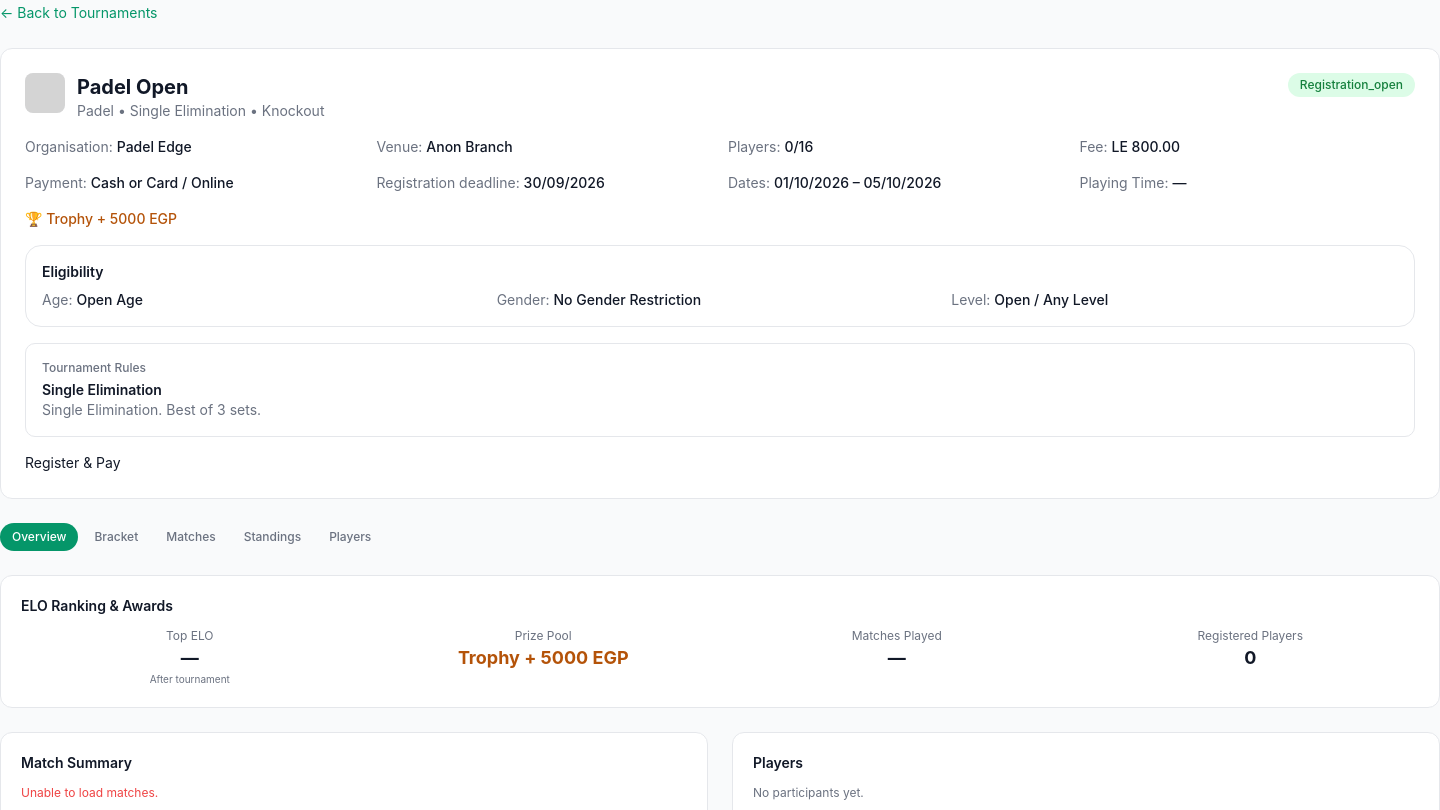
it: TournamentDetailPage — F-02 remaining query failures (UX-12) › matches failure: Overview + Matches + Bracket all surface error + Retry (never "No matches yet.")
Expected: the heading "Padel Open" is shown, [77,75,188,99]
Expected: the text "Unable to load matches." is shown, [21,785,158,800]
Click the tab "Matches". click: [191, 537]
box: [154,523,228,551]
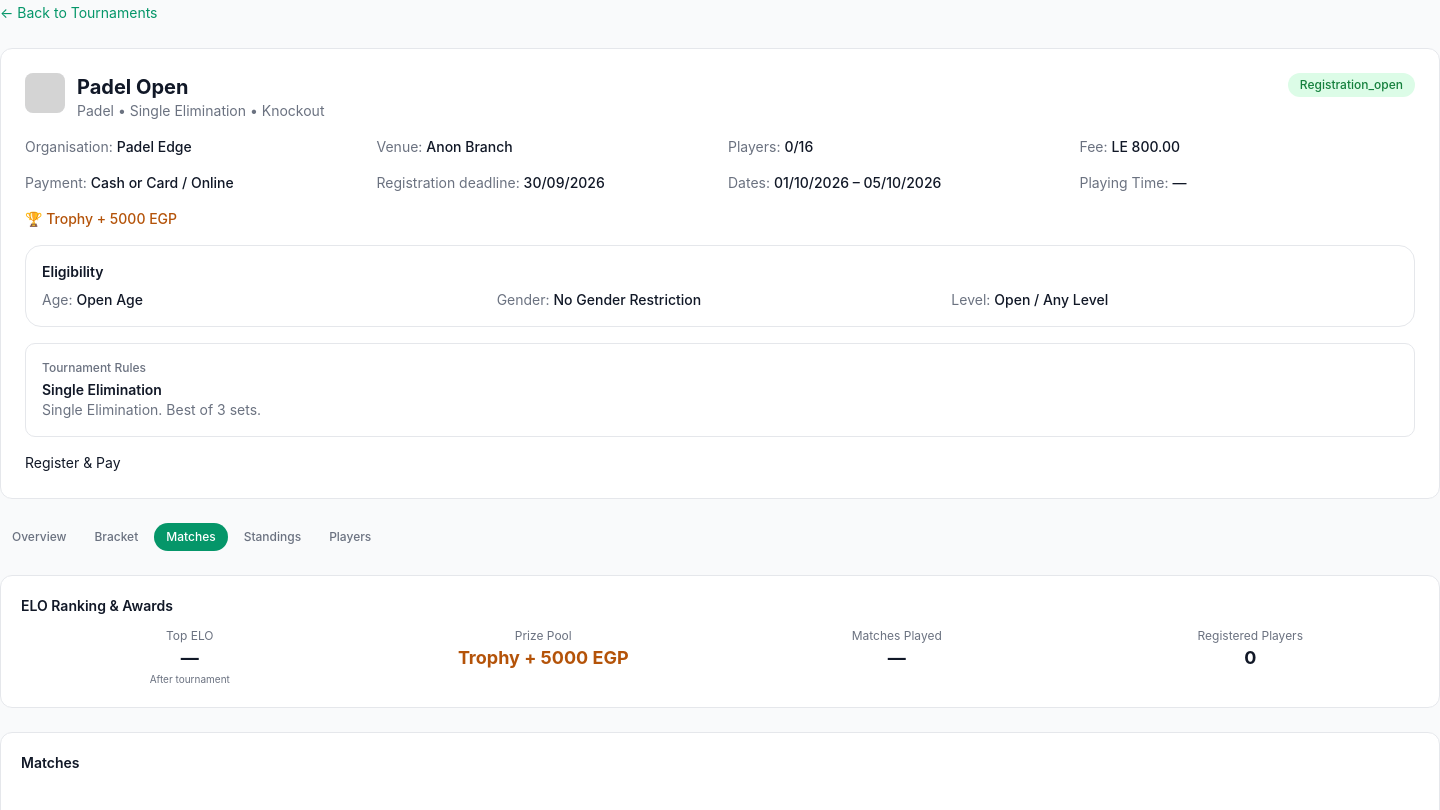
Click the tab "Bracket". click: [116, 537]
box: [82,523,150,551]
(page scrolled)
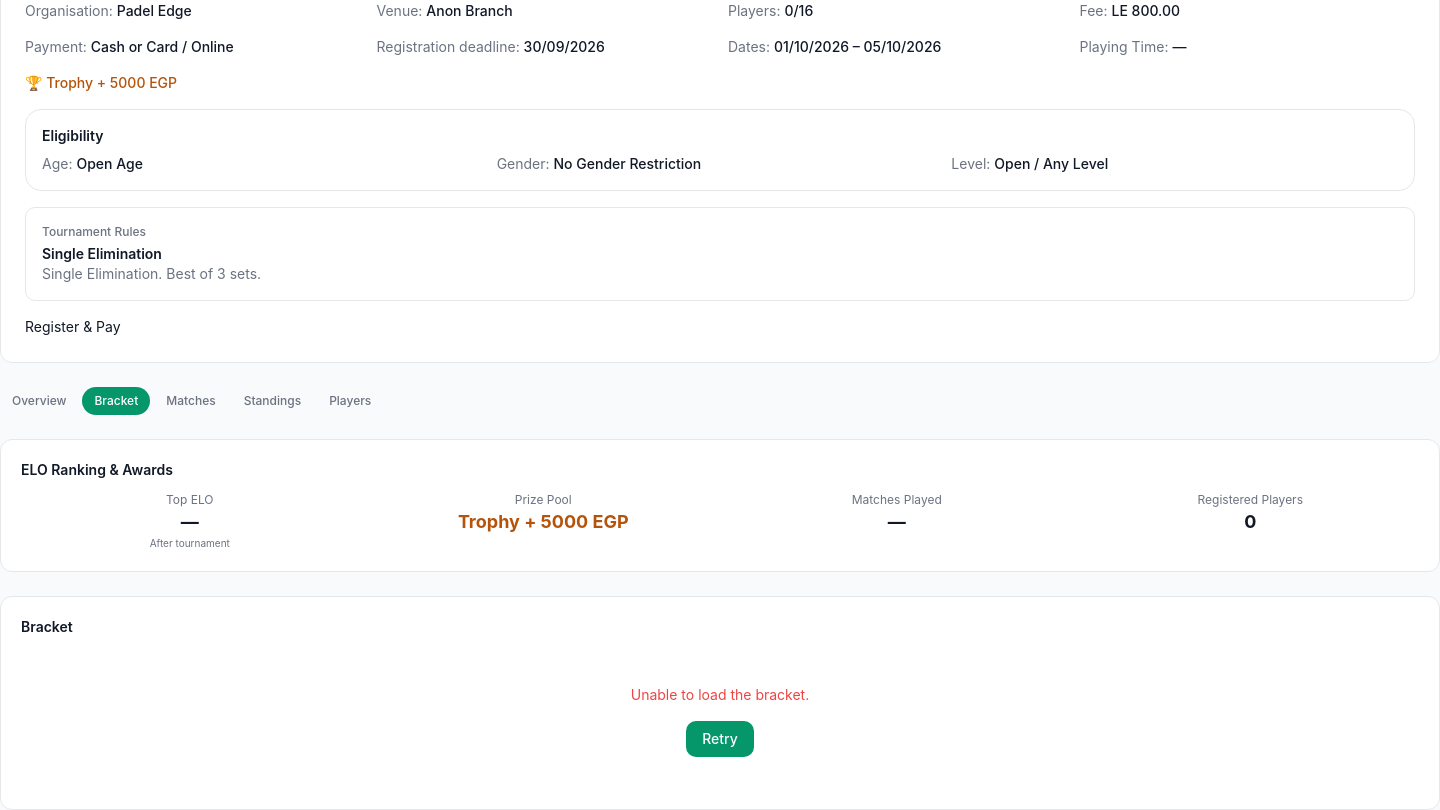
Expected: the tab "Bracket" is shown, [82,387,150,415]
Expected: the text "Unable to load the bracket." is shown, [631,686,809,703]
